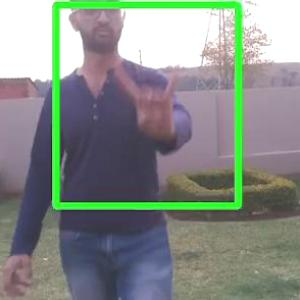takeoff-hand: (111, 59, 189, 149)
